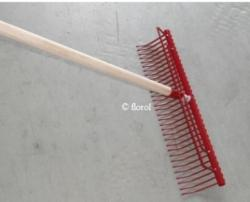RATEAU: (0, 16, 250, 202)
